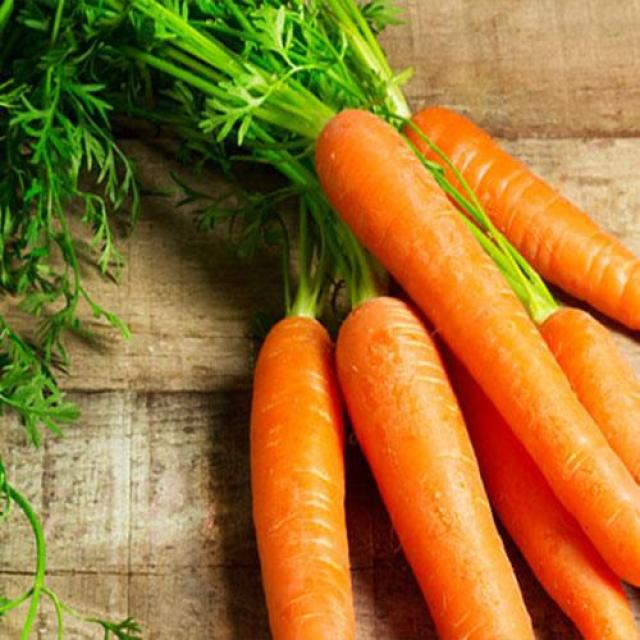Carrot: (258, 317, 355, 640)
